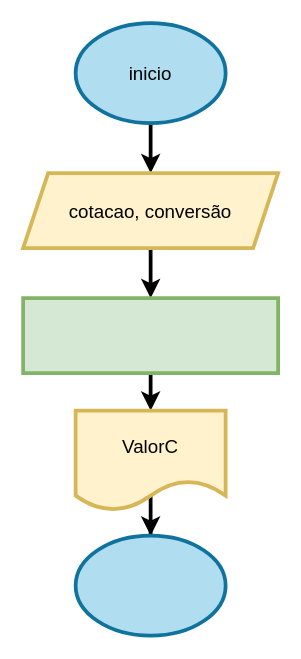
The diagram is 301 pixels wide and 659 high, and some of its shapes have lost their labels. Each missing label, with the centre of its shape:
"fim" belongs at (x=150, y=585).
"ValorC<- conversao/cotacao" belongs at (x=150, y=335).
